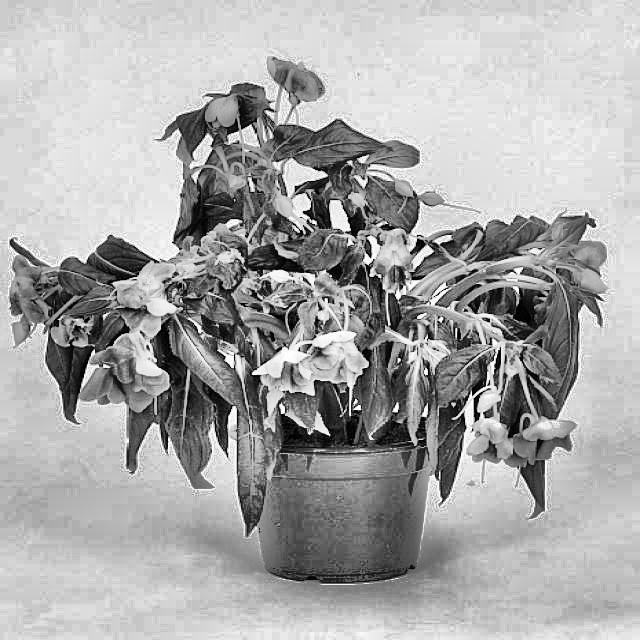plants: (1, 51, 630, 588), (480, 210, 612, 408), (246, 254, 374, 406)
